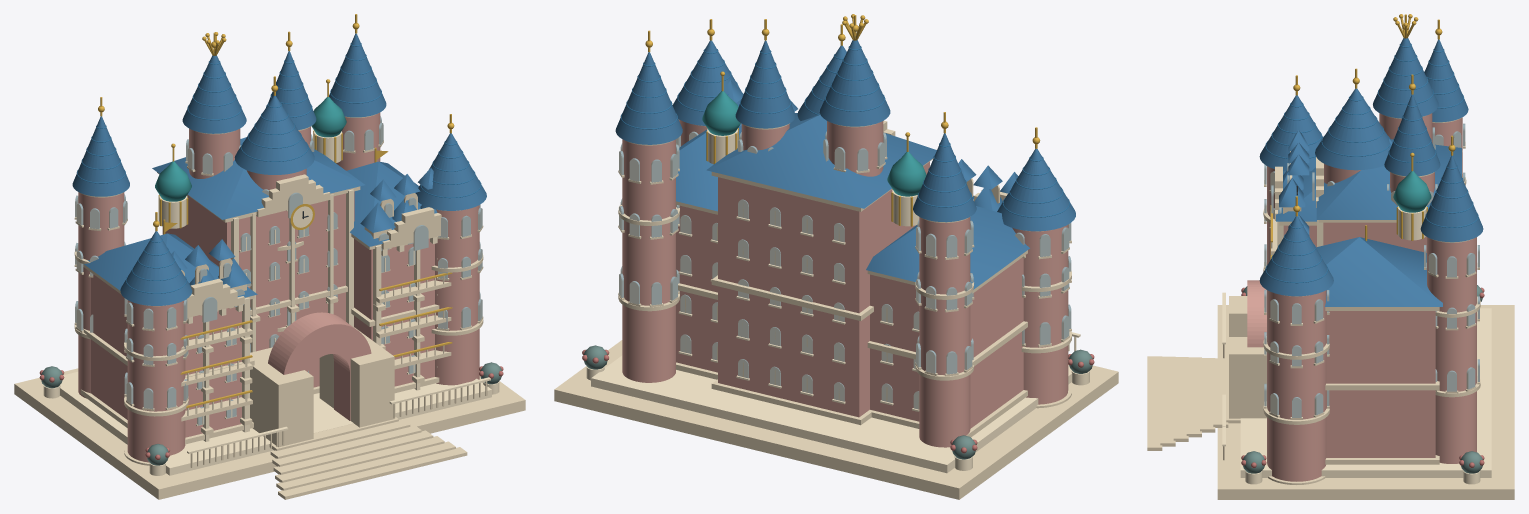
The model's file is castle.glb.
The picture shows the model from 3 angles, left to right: view 1: azimuth 30°, elevation 25°; view 2: azimuth 150°, elevation 25°; view 3: azimuth 270°, elevation 25°; orthographic projection. The views are drawn at different scales.
Size of the model in its own units: 6.6 by 6.26 by 5.57.
